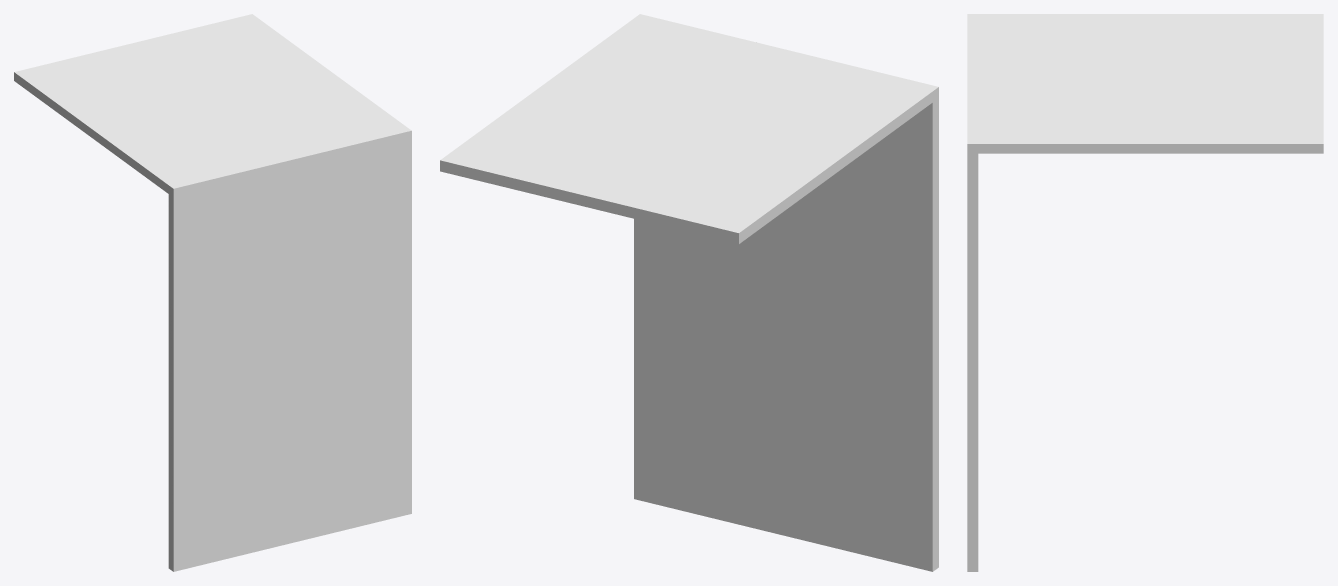
Rendered from XANCHUL.glb.
The picture shows the model from 3 angles, left to right: view 1: azimuth 30°, elevation 25°; view 2: azimuth 150°, elevation 25°; view 3: azimuth 270°, elevation 25°; orthographic projection. The views are drawn at different scales.
Visible parts, largest first — view 1: XY, Z; view 2: XY, Z; view 3: Z, XY.
Boxes of the visible parts, x1,y1,x2,y2 form: XY: (168,139,411,571); Z: (14,14,411,197); XY: (634,98,938,571); Z: (440,14,938,244); Z: (967,14,1323,153); XY: (967,153,978,571).
Size of the model in its own units: 0.479 by 0.736 by 0.555.
Materials: 1 (1 with a texture image).
